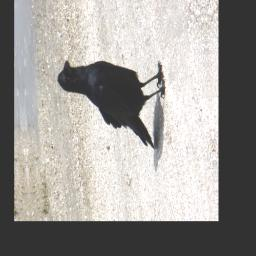Crow: (55, 52, 171, 157)
